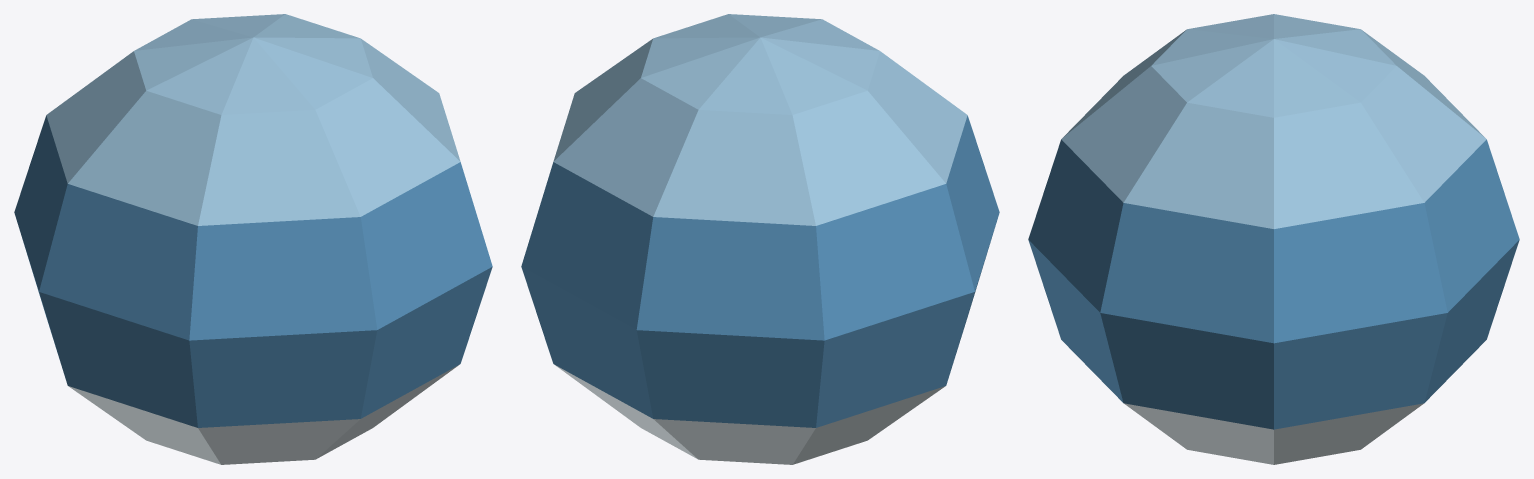
File: food-bead.glb
3 renders of one model, left to right at view 1: azimuth 30°, elevation 25°; view 2: azimuth 150°, elevation 25°; view 3: azimuth 270°, elevation 25°, orthographic.
Size of the model in its own units: 2 by 1.8 by 2.
